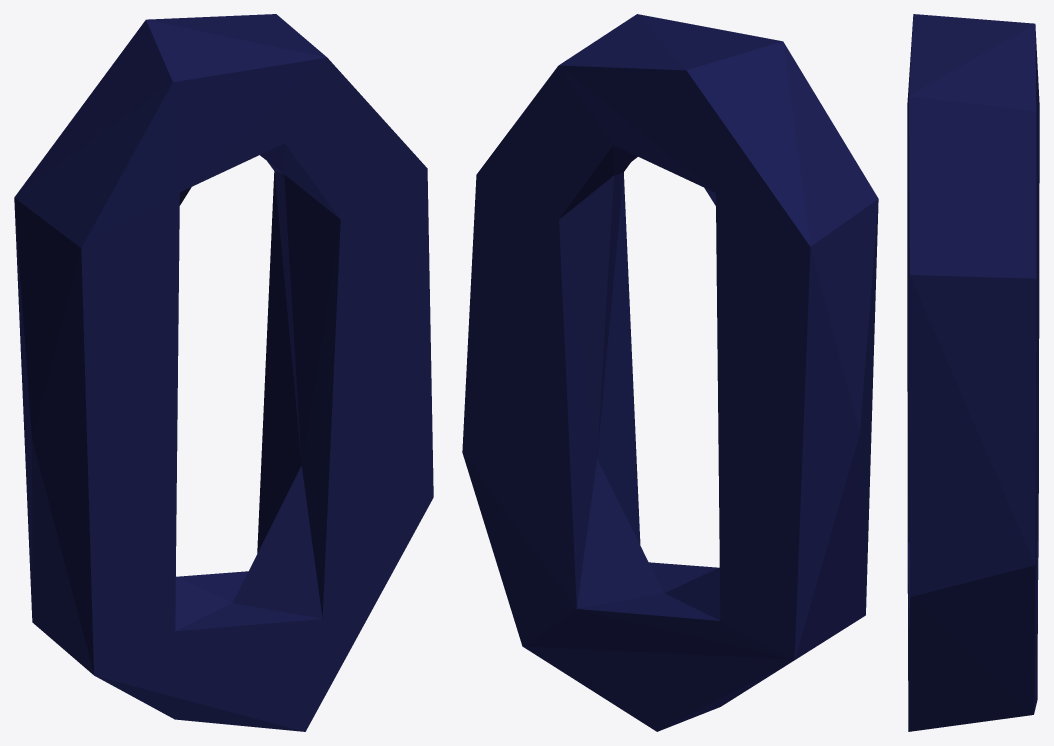
3 views of the same model, side by side, from view 1: azimuth 30°, elevation 25°; view 2: azimuth 150°, elevation 25°; view 3: azimuth 270°, elevation 25° (orthographic). The views are drawn at different scales.
Visible parts, largest first — view 1: Zero; view 2: Zero; view 3: Zero.
Boxes of the visible parts, <box> form: Zero: <box>14,14,433,731</box>; Zero: <box>462,14,878,731</box>; Zero: <box>907,14,1039,731</box>.
Size of the model in its own units: 0.2892 by 0.5052 by 0.0912.
